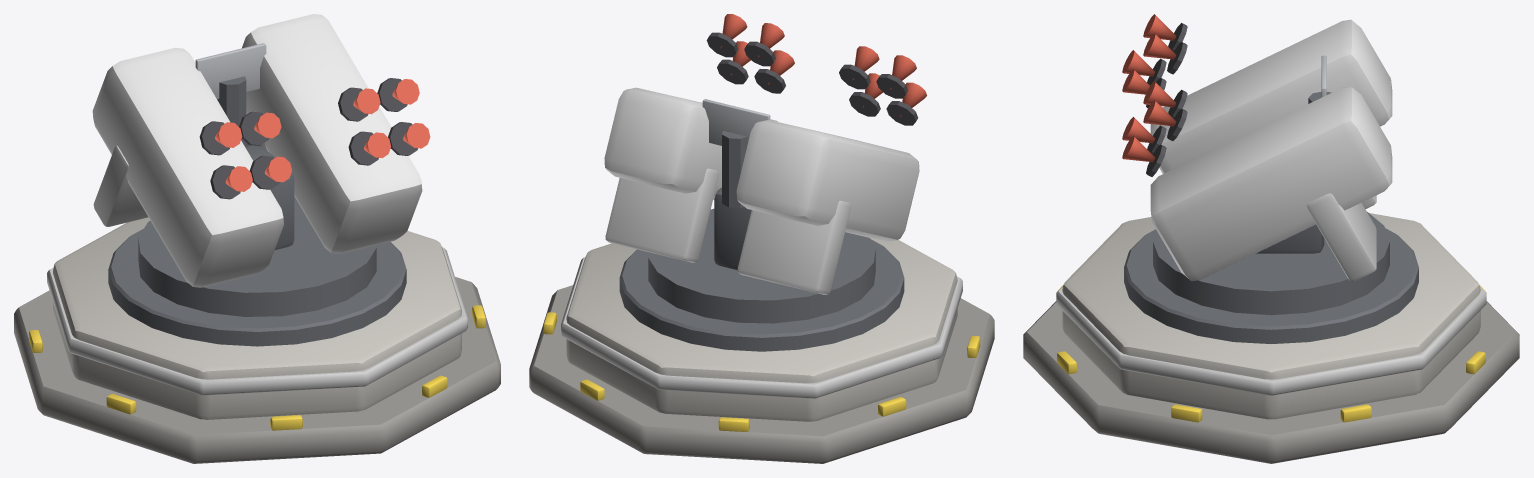
Rendered from cannon_missile.glb.
3 views of the same model, side by side, from view 1: azimuth 30°, elevation 25°; view 2: azimuth 150°, elevation 25°; view 3: azimuth 270°, elevation 25° (orthographic). The views are drawn at different scales.
Parts seen in each view (by area): view 1: cannon_missile, turret; view 2: cannon_missile, turret; view 3: cannon_missile, turret.
Boxes of the visible parts, x1,y1,x2,y2 form: cannon_missile: [14, 217, 500, 463]; turret: [92, 14, 430, 316]; cannon_missile: [529, 238, 994, 463]; turret: [604, 14, 926, 323]; cannon_missile: [1023, 213, 1519, 463]; turret: [1122, 14, 1392, 315].
Size of the model in its own units: 1.88 by 1.27 by 1.88.
